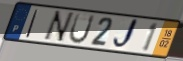1: (142, 22, 160, 53)
2: (89, 17, 114, 48)
I: (24, 8, 40, 39)
J: (111, 17, 141, 51)
N: (40, 10, 76, 44)
U: (67, 12, 97, 46)
